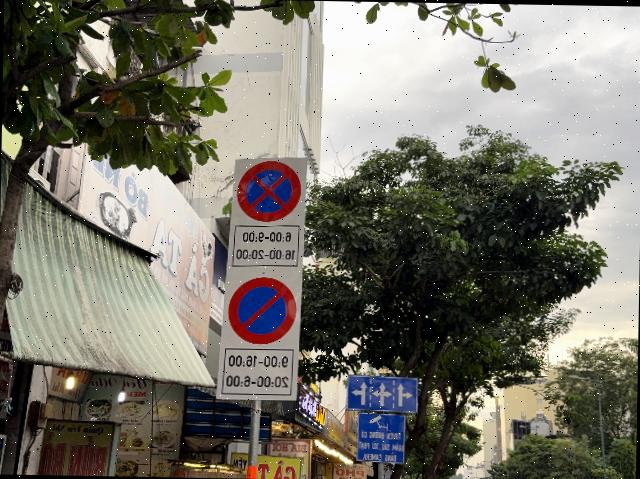cam-do-xe: (228, 276, 297, 346)
cam-dung-va-do-xe: (234, 159, 302, 222)
